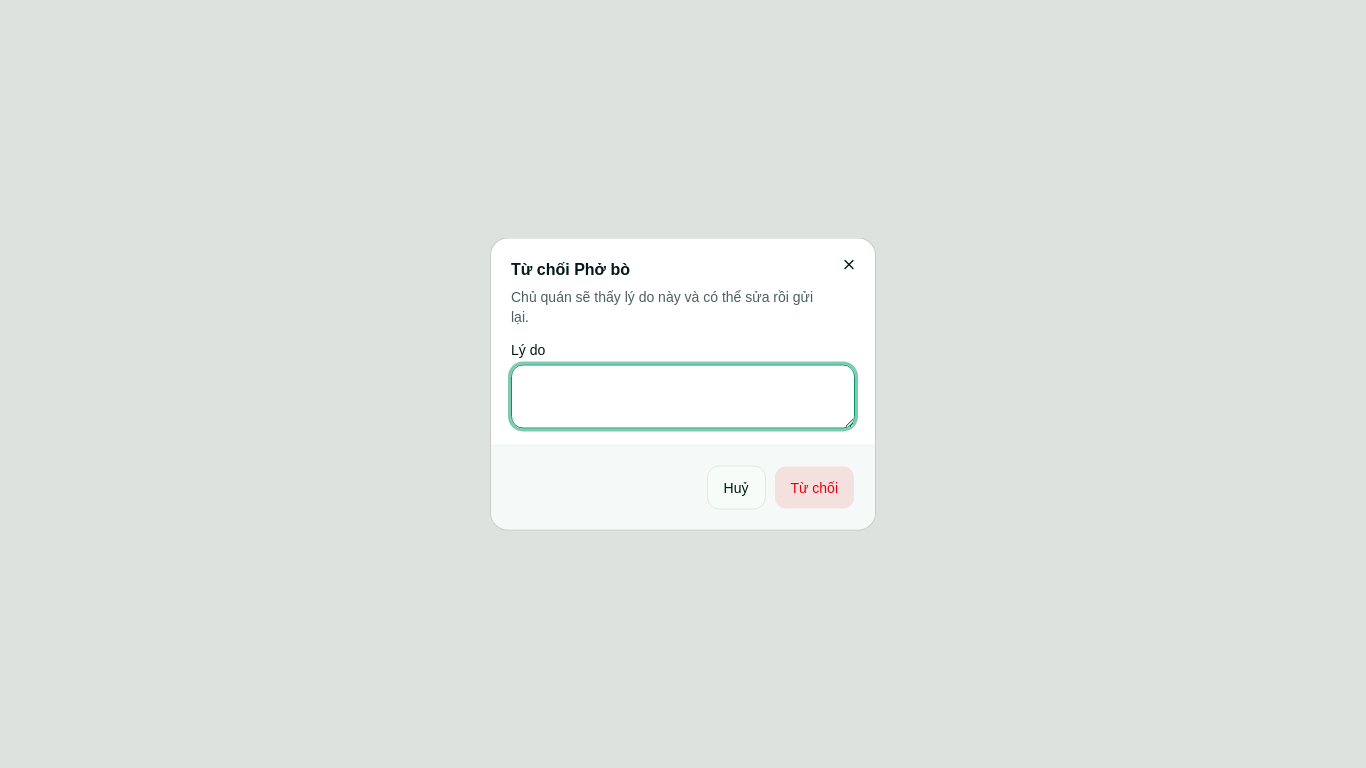
an empty reason is refused, flagged on the field and focused
Click the button "Từ chối": (814,488) [774,466,855,510]
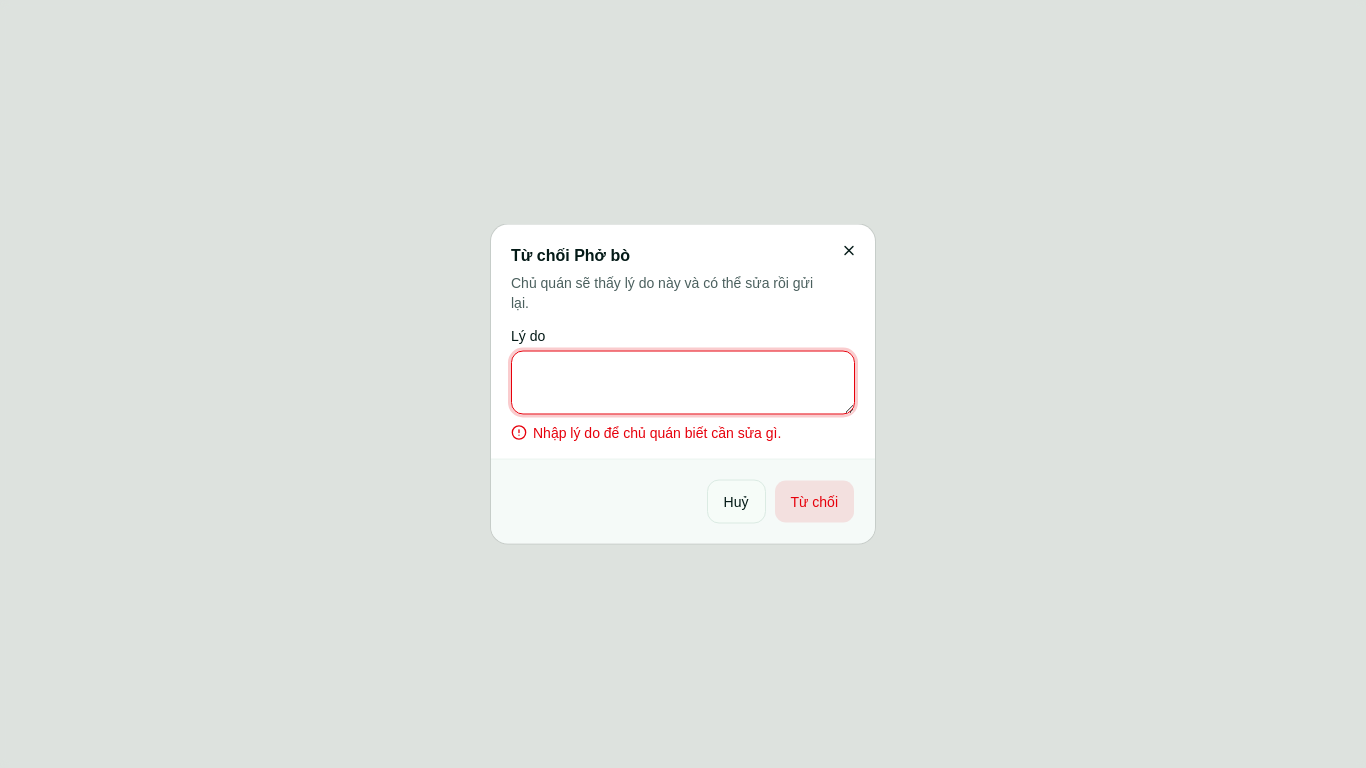
Result: the message shows "Nhập lý do" at [533,424,781,440]
